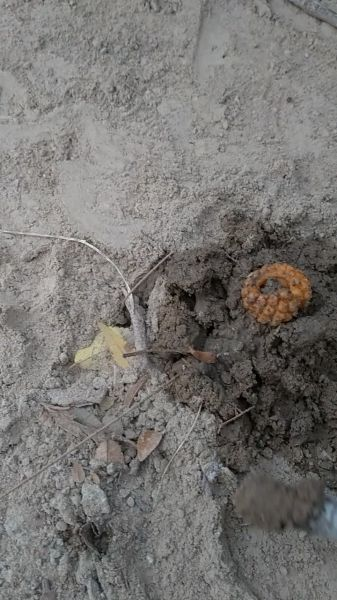eggs: (235, 254, 316, 324)
